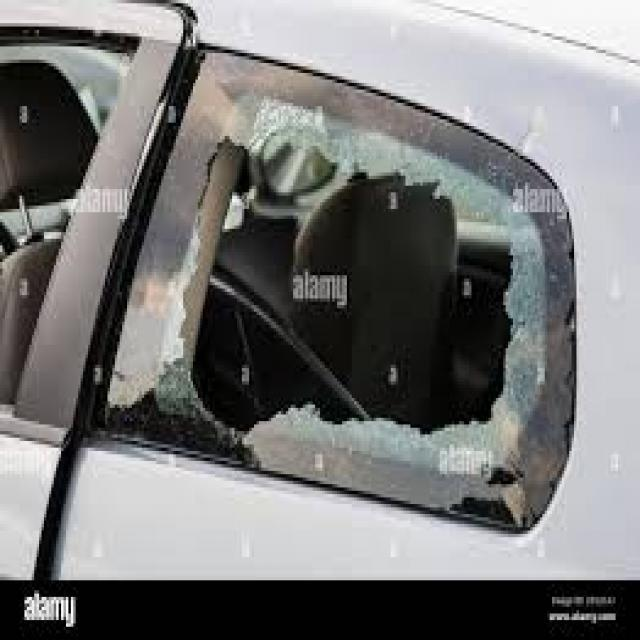damaged-window: (129, 28, 579, 541)
